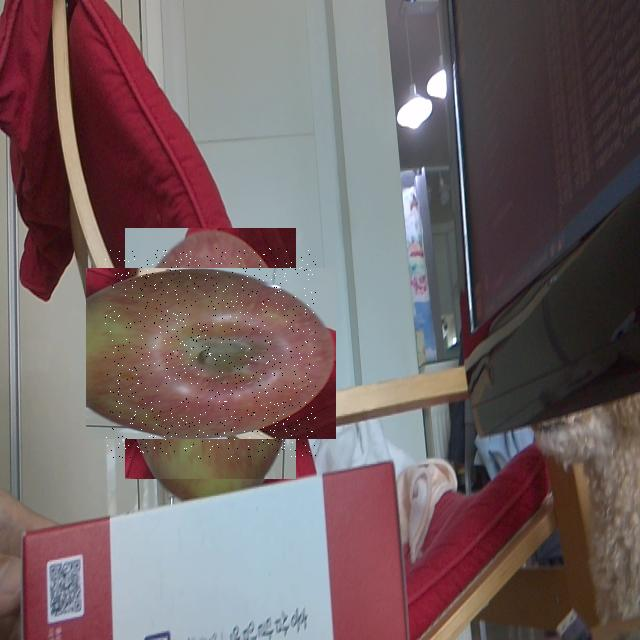apple: (105, 248, 316, 459)
